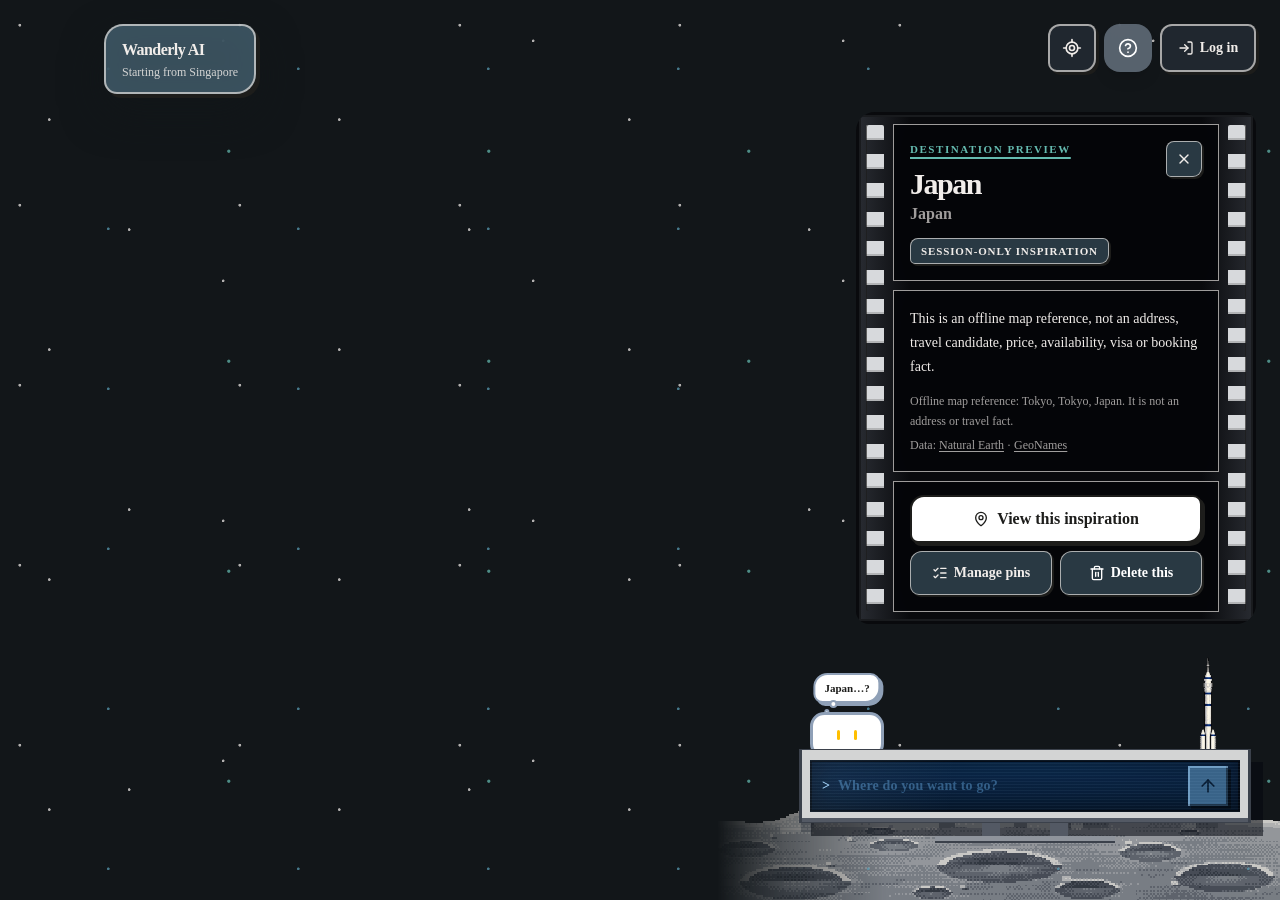
Test: ExploreMapPage private inspirations › opens chat without persisting or sending when a zoom-selected administrative pin is viewed
Click the button "View this inspiration": click(1056, 519) [910, 495, 1202, 543]
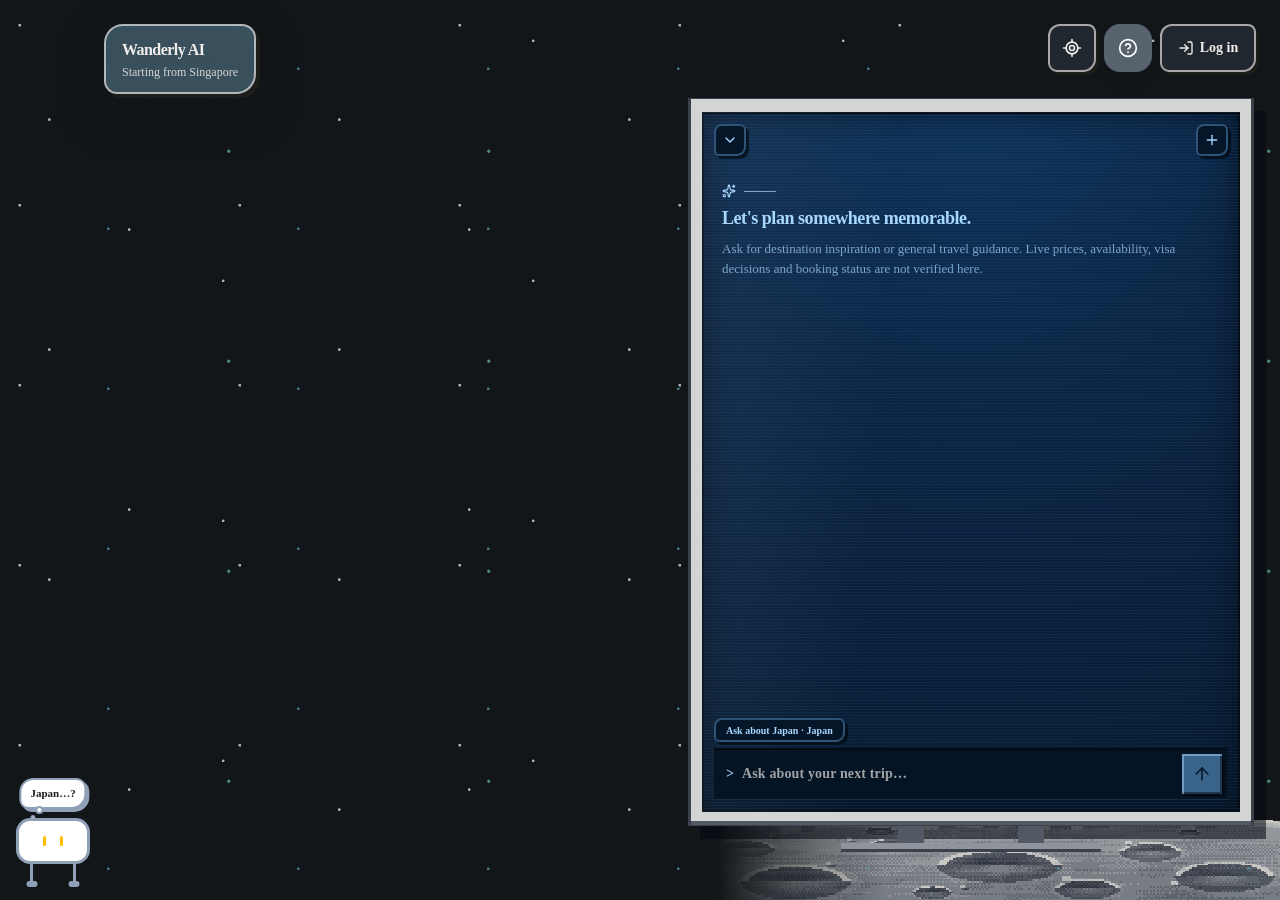
Result: the dialog named "Wanderly Agent conversation" is shown at [702, 112, 1240, 812]
Result: the button "Ask about Japan · Japan" is shown at [714, 718, 845, 742]
